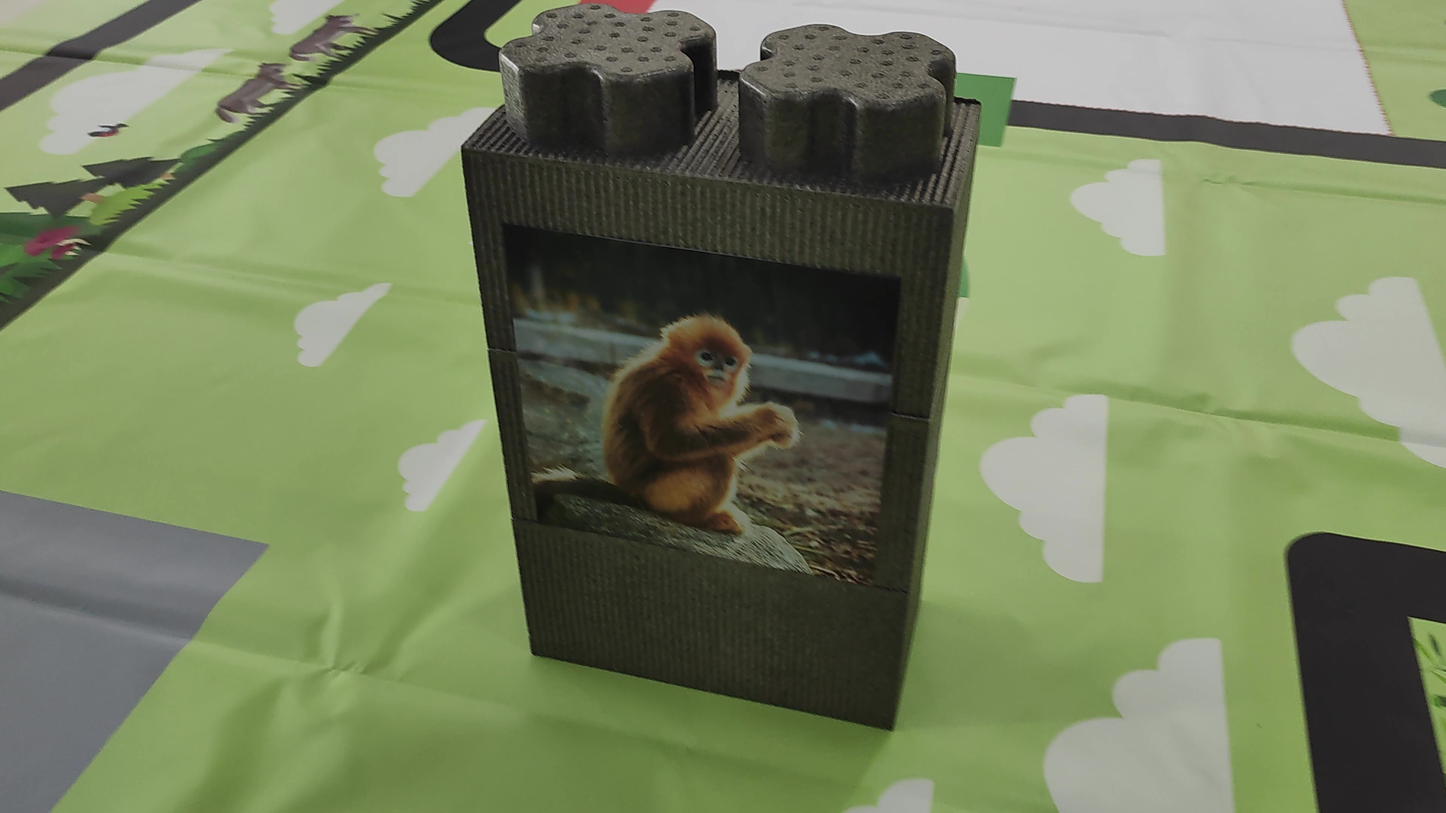monkey: (563, 260, 816, 552)
